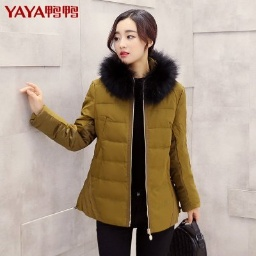face: (106, 7, 161, 65)
